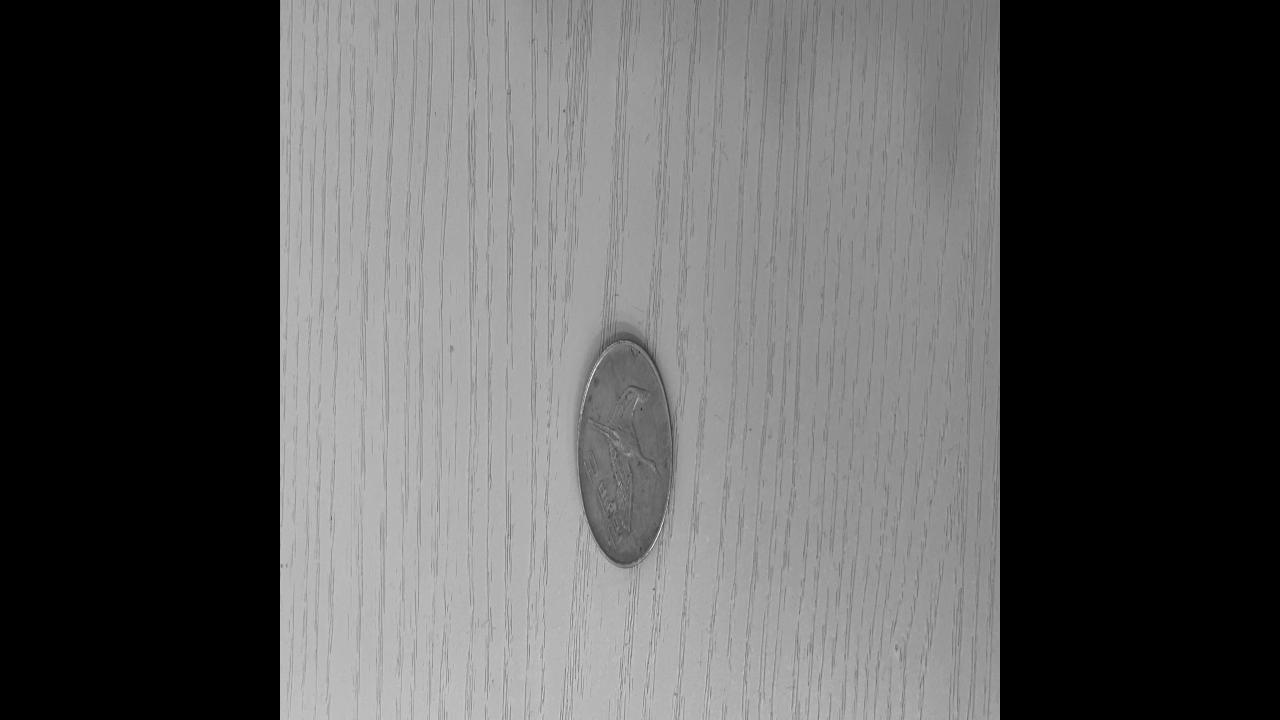coin: (576, 325, 678, 575)
